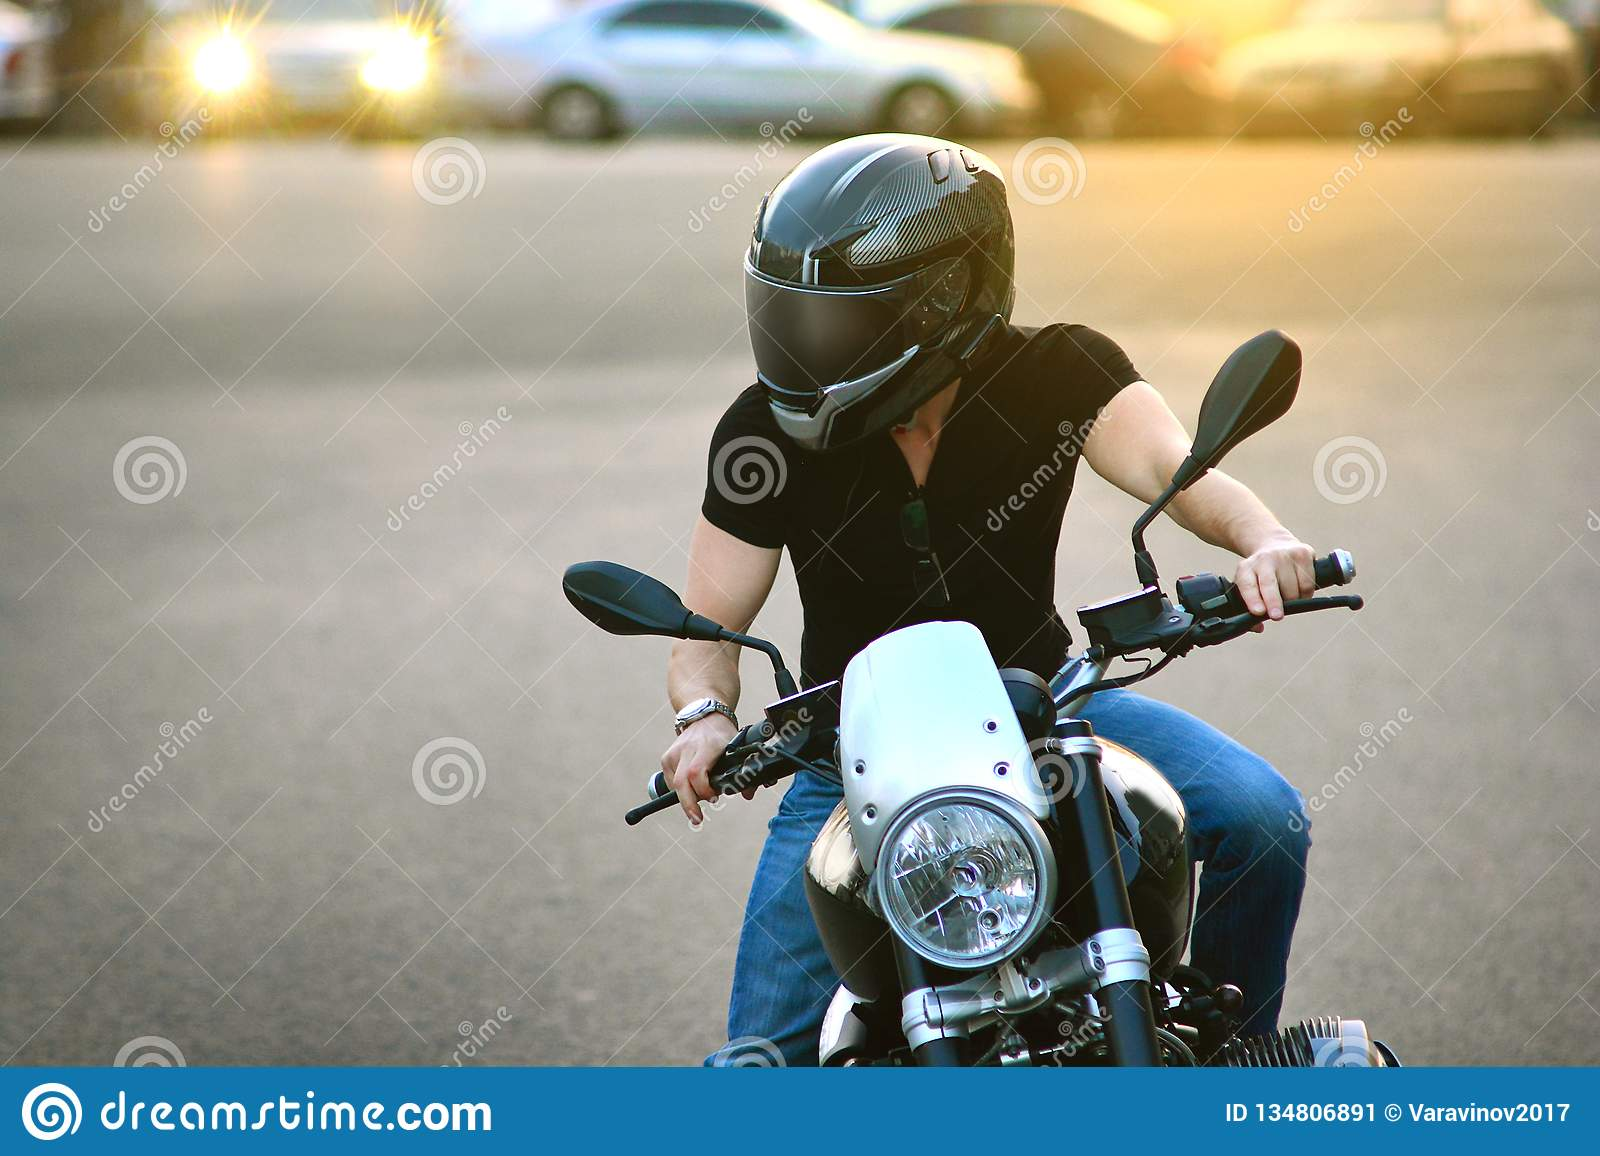helmet: (742, 130, 1024, 441)
